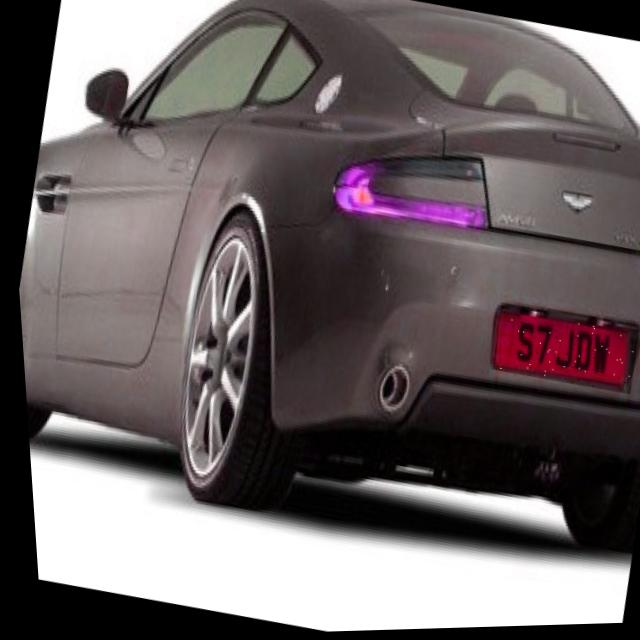license_plate: (483, 305, 637, 401)
